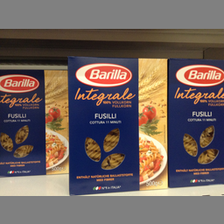pasta: (67, 56, 169, 195), (167, 57, 224, 188), (1, 70, 68, 176)
